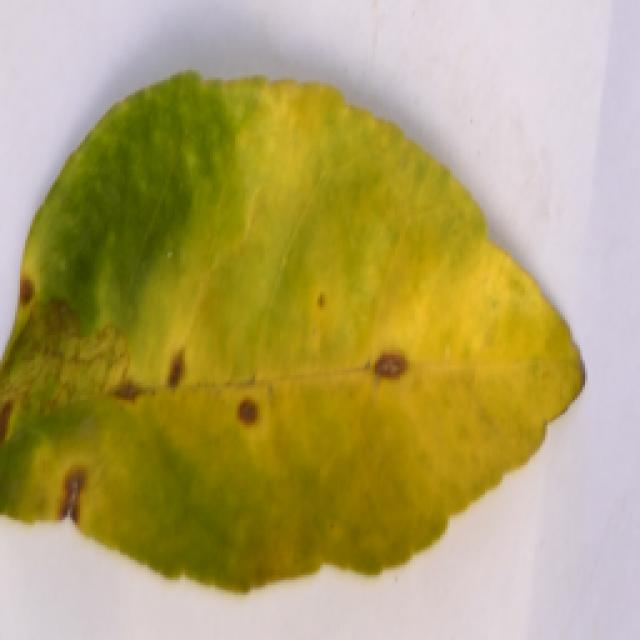canker: (7, 78, 545, 596)
